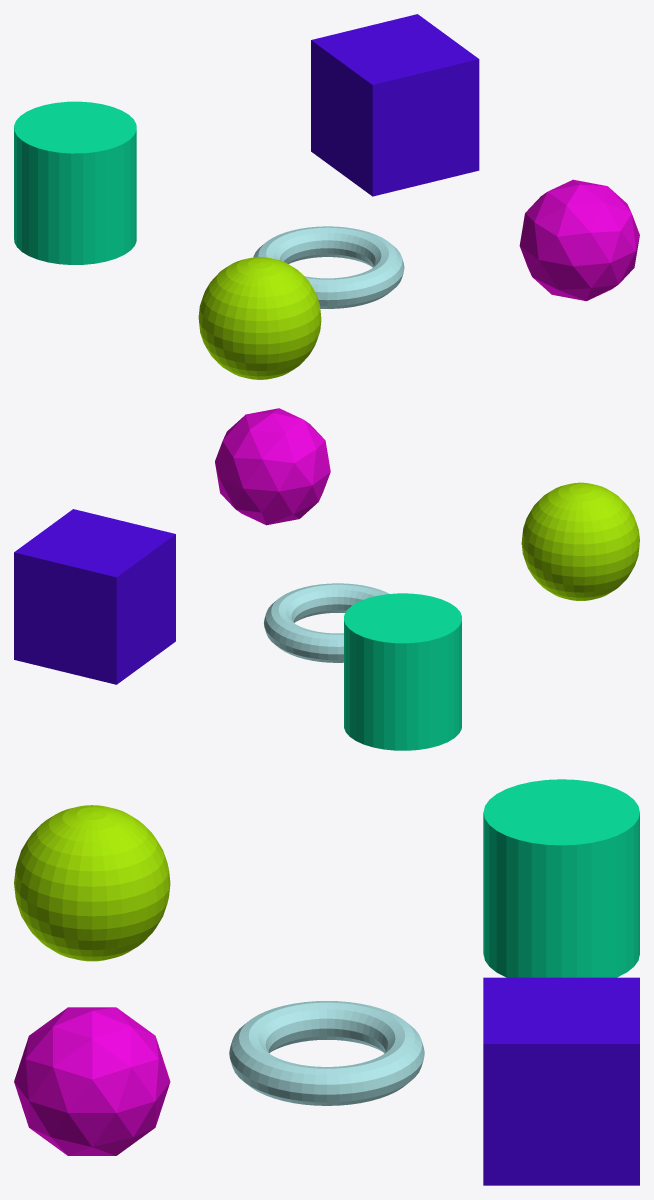
The model's file is Dancing Objects.glb.
3 renders of one model, top to bottom at view 1: azimuth 30°, elevation 25°; view 2: azimuth 150°, elevation 25°; view 3: azimuth 270°, elevation 25°, orthographic. The views are drawn at different scales.
Parts seen in each view (by area): view 1: Cube, Cylinder, Sphere, Icosphere, ring; view 2: Cube, Cylinder, Sphere, Icosphere, ring; view 3: Cube, Cylinder, Sphere, Icosphere, ring.
Boxes of the visible parts, bbox=[...] form: Cube: bbox=[311, 14, 479, 196]; Cylinder: bbox=[14, 101, 136, 264]; Sphere: bbox=[198, 257, 321, 379]; Icosphere: bbox=[519, 179, 639, 301]; ring: bbox=[253, 226, 404, 308]; Cube: bbox=[14, 509, 175, 684]; Cylinder: bbox=[344, 593, 461, 750]; Sphere: bbox=[521, 482, 639, 600]; Icosphere: bbox=[215, 408, 330, 525]; ring: bbox=[264, 583, 389, 662]; Cube: bbox=[483, 977, 639, 1185]; Cylinder: bbox=[483, 779, 639, 977]; Sphere: bbox=[14, 805, 170, 961]; Icosphere: bbox=[14, 1007, 170, 1155]; ring: bbox=[229, 1001, 424, 1105].
Bounding box in the file's own units: 8 × 2.25 × 8.
